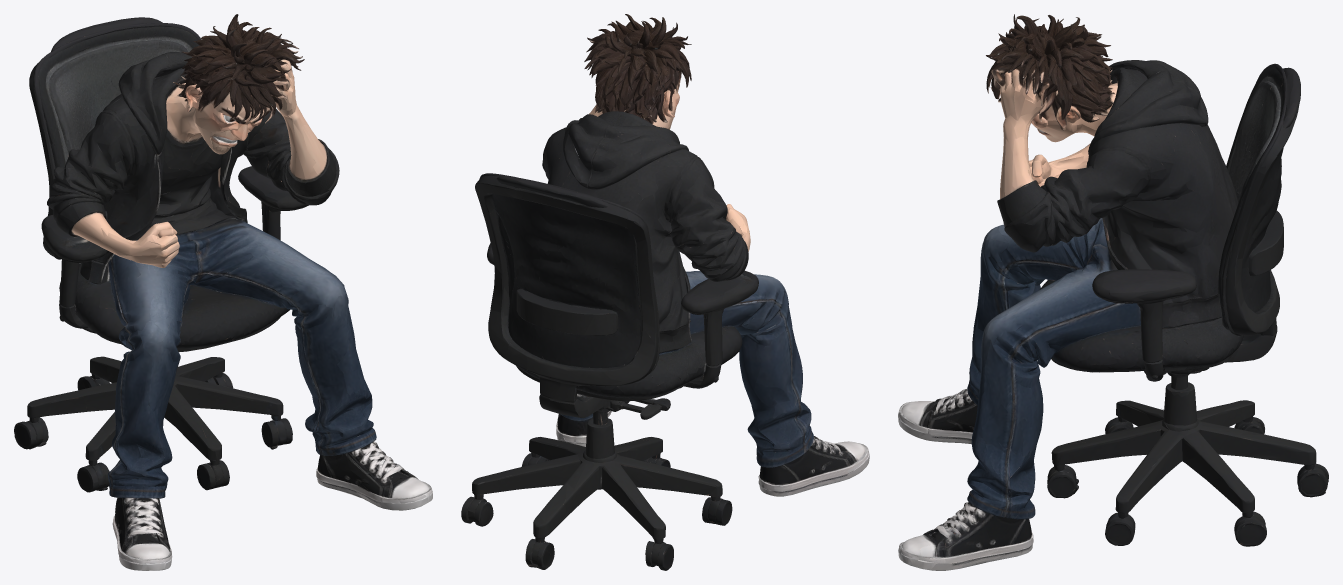
The model's file is person_angry.obj.
3 views of the same model, side by side, from view 1: azimuth 30°, elevation 25°; view 2: azimuth 150°, elevation 25°; view 3: azimuth 270°, elevation 25° (orthographic). The views are drawn at different scales.
Visible parts, largest first — view 1: Meshy_AI_Frustration_0922093444_texture; view 2: Meshy_AI_Frustration_0922093444_texture; view 3: Meshy_AI_Frustration_0922093444_texture.
Part boxes in pixels (x1,y1,x2,y2): Meshy_AI_Frustration_0922093444_texture: [14, 14, 432, 570]; Meshy_AI_Frustration_0922093444_texture: [461, 14, 869, 570]; Meshy_AI_Frustration_0922093444_texture: [898, 14, 1328, 570].
Bounding box in the file's own units: 0.9227 × 1.35 × 1.07.
Materials: 1 (1 with a texture image).
